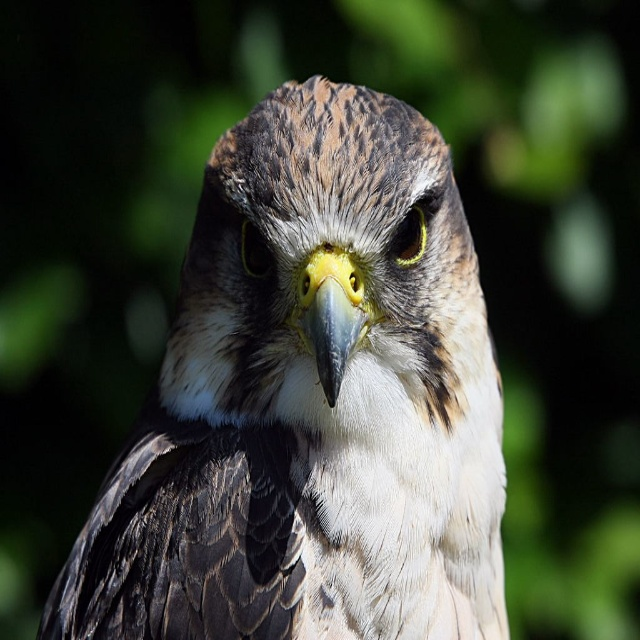Owl: (35, 74, 510, 640)
